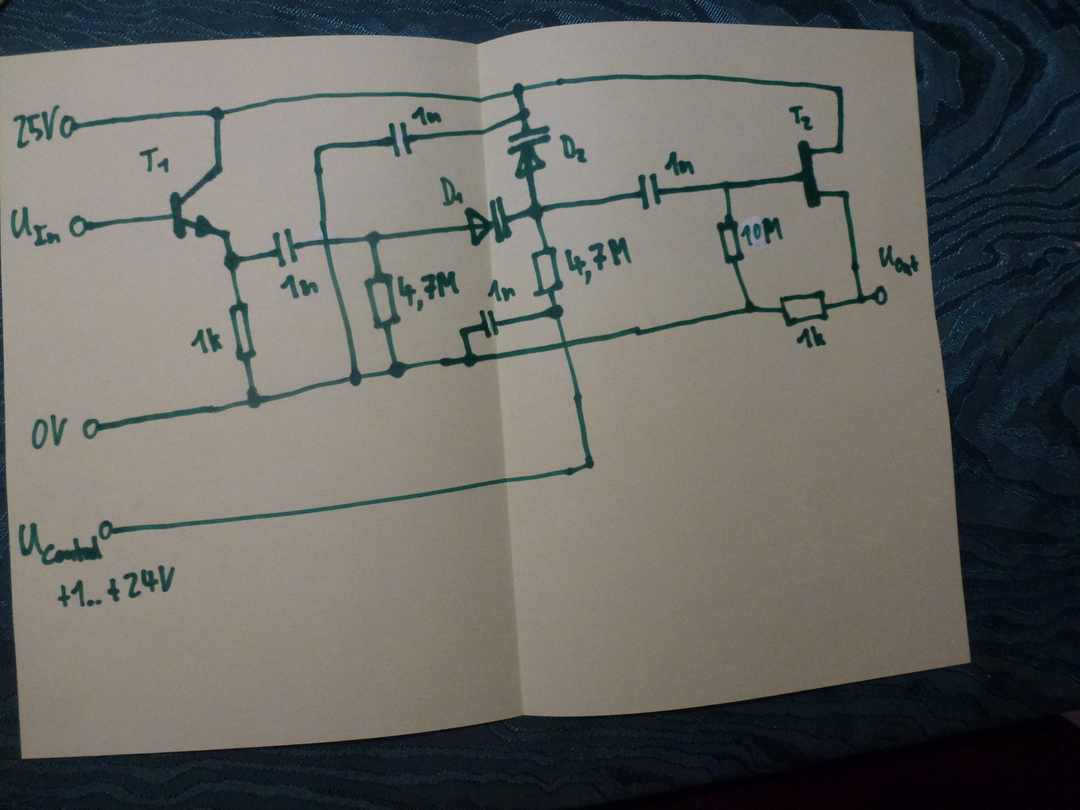capacitor.unpolarized: (271, 227, 302, 268), (636, 171, 664, 211), (387, 120, 415, 158), (478, 307, 503, 340)
crossover: (557, 338, 573, 352), (320, 236, 334, 249)
diode: (507, 124, 553, 181), (464, 196, 514, 247)
junction: (245, 387, 263, 411), (388, 360, 409, 380), (223, 250, 242, 272), (526, 201, 545, 222), (543, 304, 564, 321), (209, 105, 227, 123), (363, 229, 382, 246), (510, 80, 526, 98), (462, 351, 478, 369), (348, 369, 363, 388), (582, 455, 597, 472), (515, 106, 531, 121), (743, 300, 757, 316), (456, 325, 472, 338), (719, 179, 732, 192), (832, 84, 845, 96), (312, 143, 325, 155), (855, 293, 867, 306)
resistor: (363, 270, 404, 330), (227, 299, 260, 363), (778, 289, 830, 327), (529, 245, 564, 298), (715, 218, 746, 266)
terminal: (58, 113, 82, 139), (80, 416, 104, 440), (68, 214, 91, 239), (98, 519, 118, 541), (873, 283, 890, 306)
text: (57, 565, 176, 608), (17, 522, 103, 565), (564, 237, 633, 285), (396, 270, 461, 312), (9, 205, 64, 248), (12, 104, 61, 149), (29, 413, 70, 450), (878, 244, 920, 277), (740, 217, 785, 247), (279, 273, 322, 301), (190, 326, 225, 355), (138, 145, 171, 175), (559, 133, 589, 165), (663, 150, 696, 177), (439, 175, 465, 207), (795, 325, 828, 349), (787, 104, 815, 132), (486, 279, 518, 302), (411, 106, 443, 127)
transistor: (169, 166, 231, 241), (796, 137, 851, 210)
